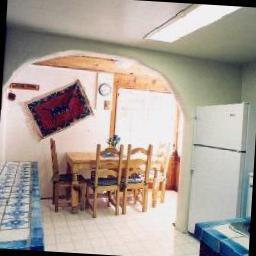Electrodomestico: (190, 105, 247, 220)
